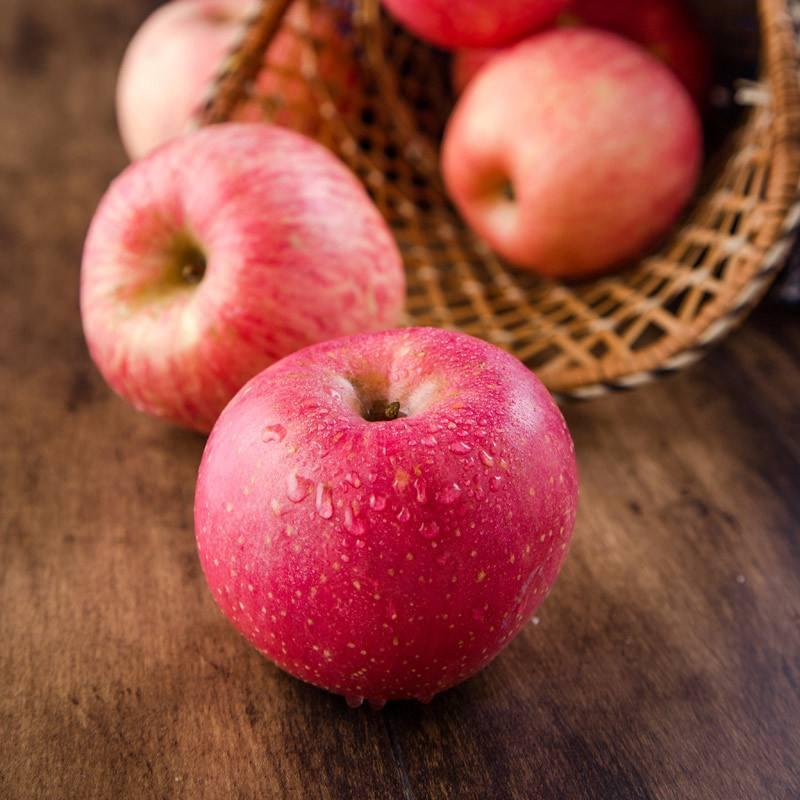apple: (195, 332, 584, 706), (81, 129, 410, 443), (434, 23, 703, 285)
